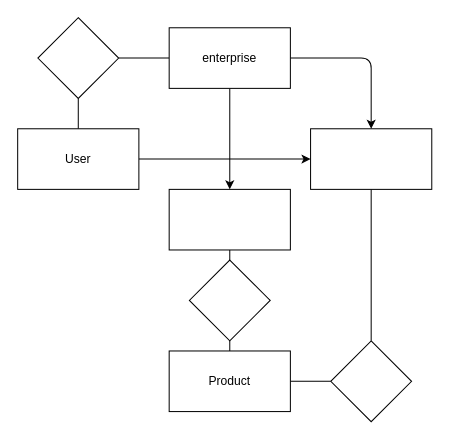
The diagram is 449 pixels wide and 439 high, and some of its shapes have lost their labels. Each missing label, with the centre of its shape:
"Clients" goes at (371,158).
"Provider" goes at (229,219).
